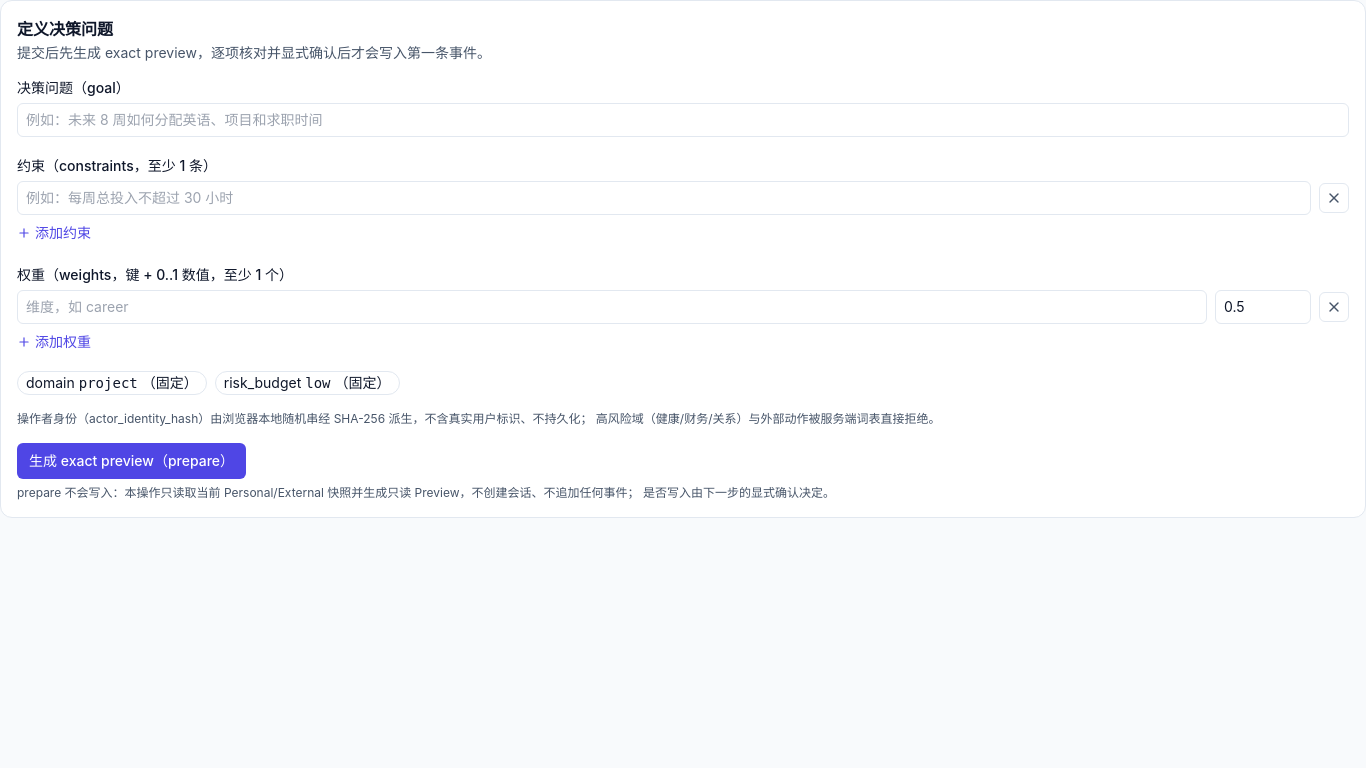
Test: NewSessionFlow › confirm 命中幂等重放（replayed=true）：显示"已返回原事件，未重复写入"，不显示"已创建"卡片
The width and height of the screenshot is (1366, 768).
Type "未来 8 周如何分配时间" into the field labelled "决策问题（goal）" at (683, 120), box [17,103,1349,137]
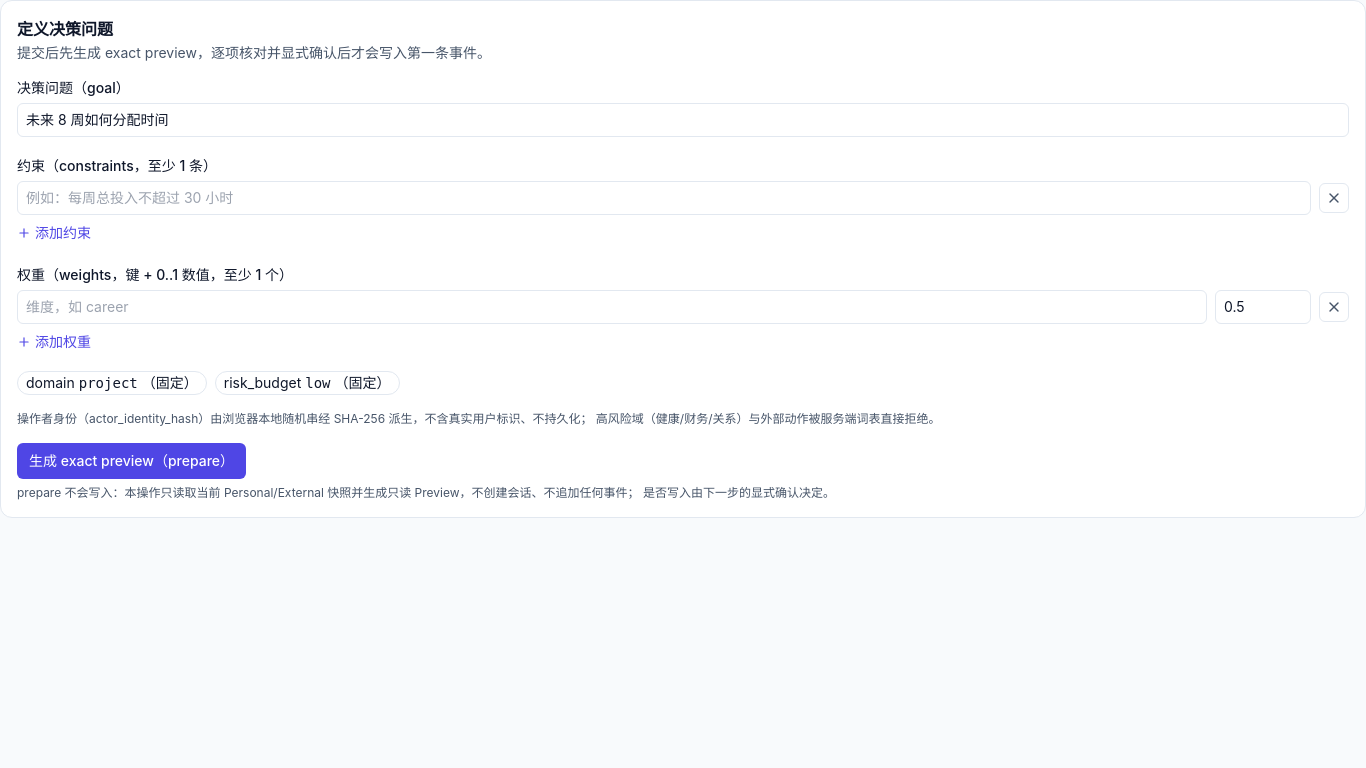
Type "每周不超过 30 小时" into the field named "约束 1" at (664, 198), box [17,181,1311,215]
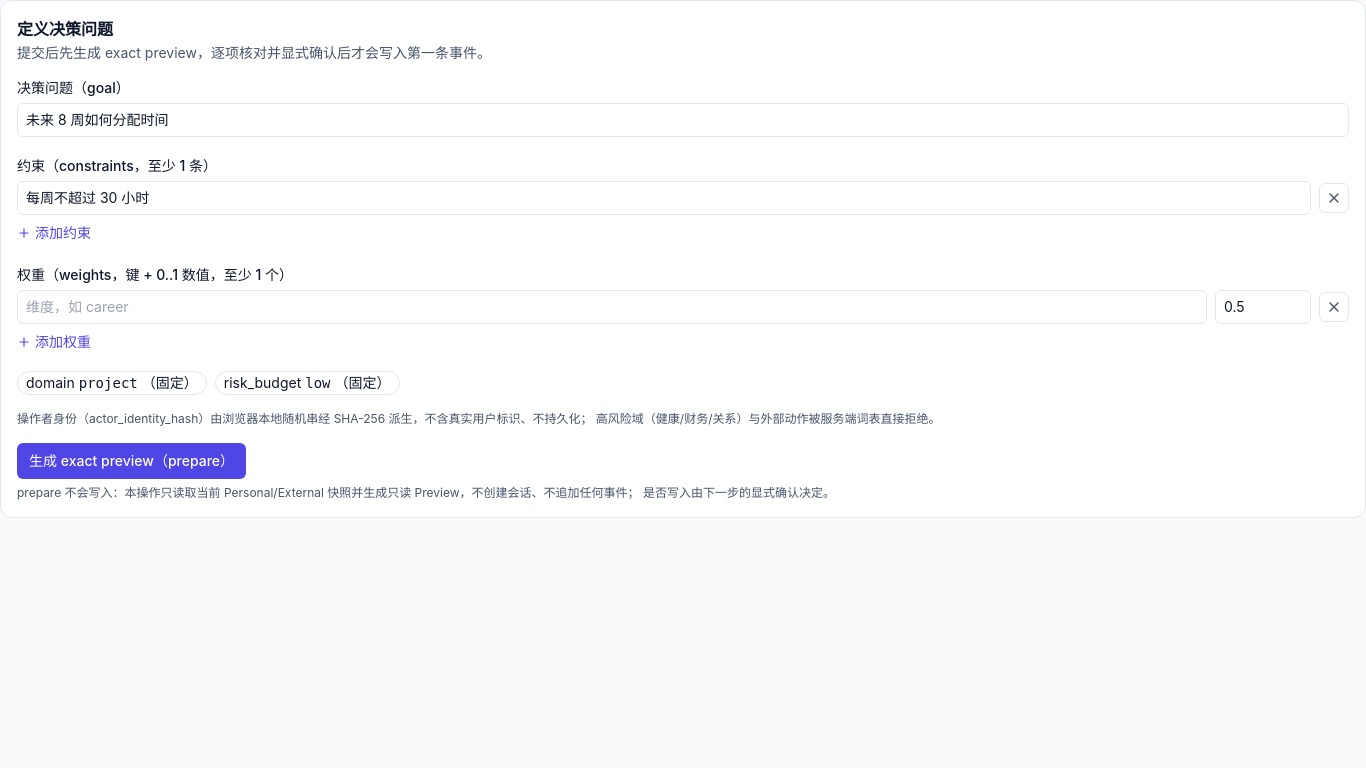
Type "career" into the field named "权重 1 名称" at (612, 307), box [17,290,1207,324]
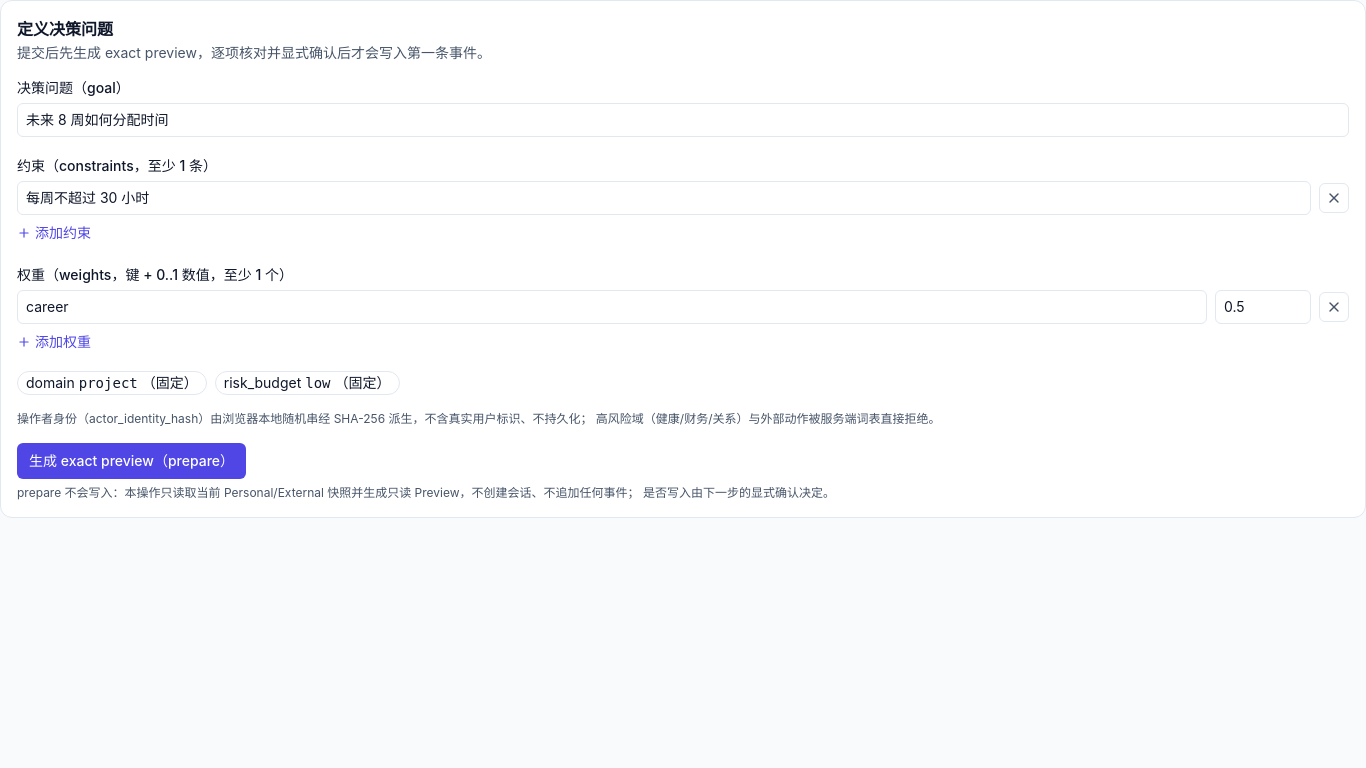
Click the button "生成 exact preview（prepare）" at (132, 461), box [17,443,246,479]
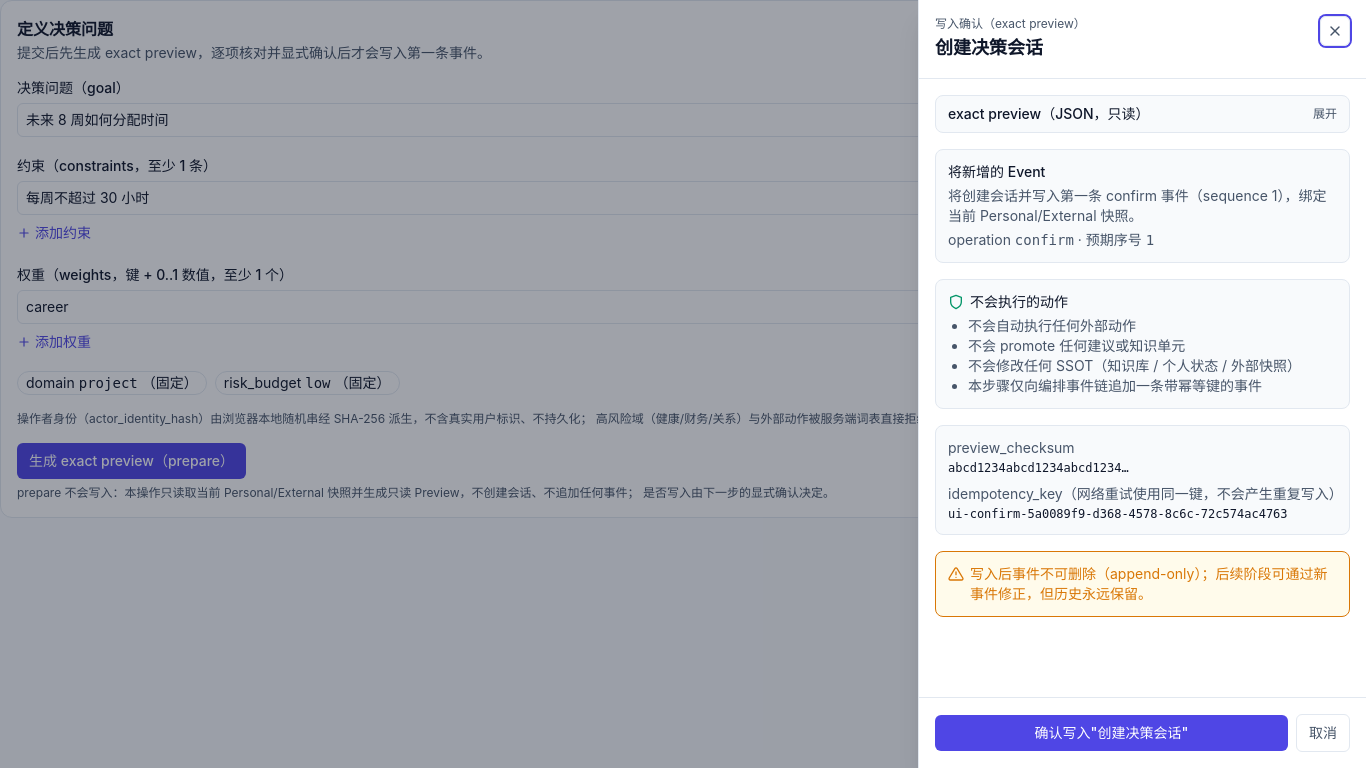
Expected: the dialog is shown
Click the button "确认写入\"创建决策会话\"" at (1112, 733), box [935,715,1288,751]
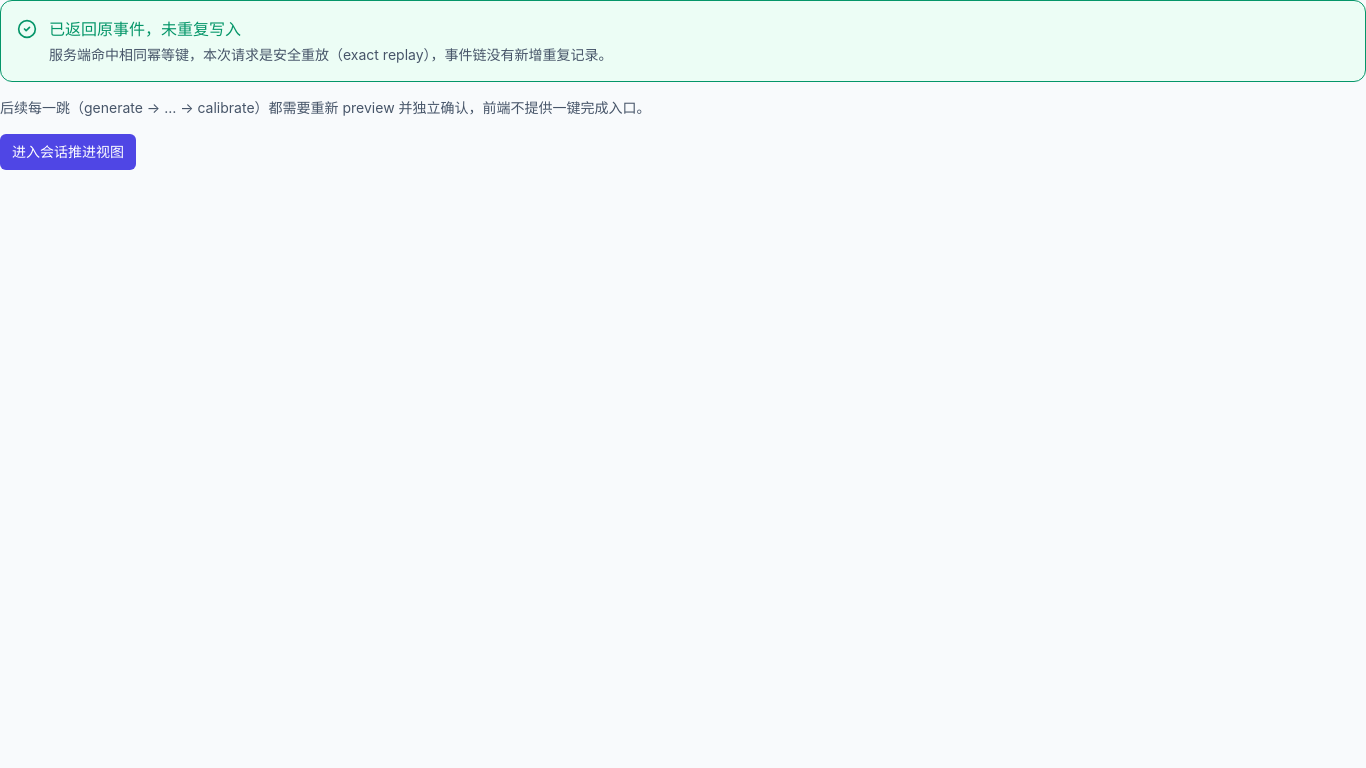
Expected: the text "已返回原事件，未重复写入" is shown, [49,19,241,39]
